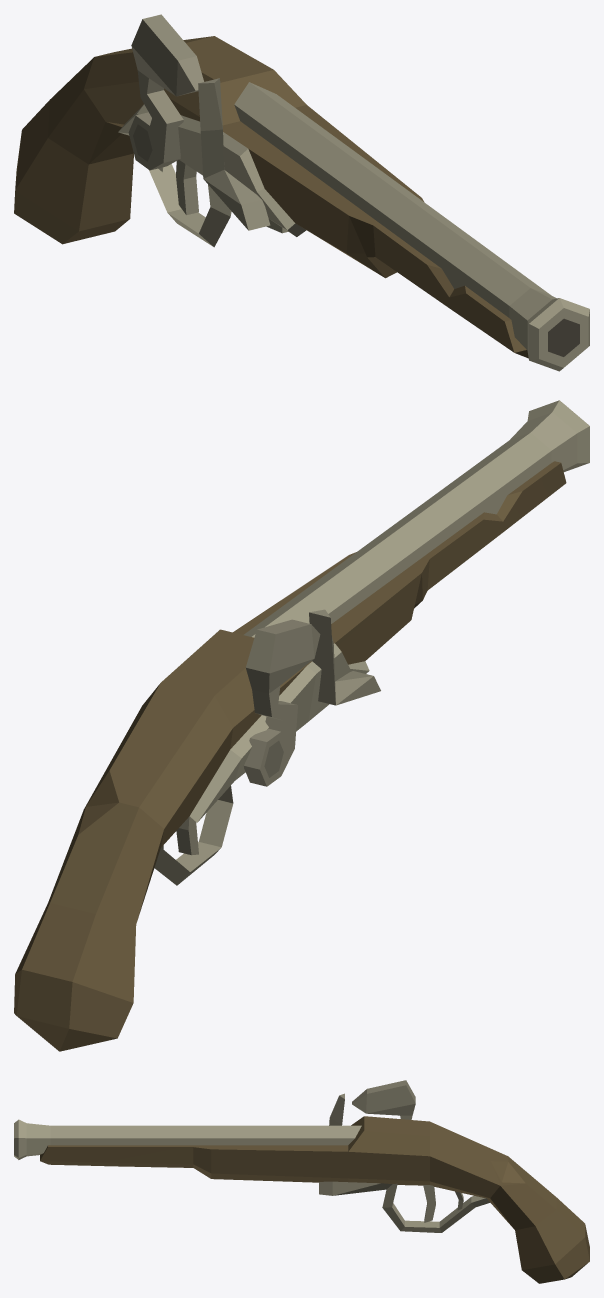
File: Pistol_3.fbx
3 renders of one model, top to bottom at view 1: azimuth 30°, elevation 25°; view 2: azimuth 150°, elevation 25°; view 3: azimuth 270°, elevation 25°, orthographic. The views are drawn at different scales.
Parts seen in each view (by area): view 1: Pistol_3; view 2: Pistol_3; view 3: Pistol_3.
Boxes of the visible parts, box(x1,y1,x2,y2) form: Pistol_3: box(14, 14, 589, 371); Pistol_3: box(14, 400, 589, 1051); Pistol_3: box(14, 1080, 589, 1283).
Bounding box in the file's own units: 8.37 × 20.21 × 58.87.
